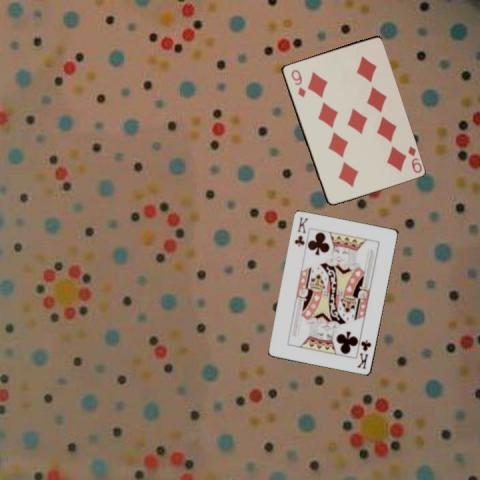9d: (288, 66, 306, 98), (404, 143, 422, 174)
Kc: (354, 337, 373, 370), (292, 214, 310, 248)
